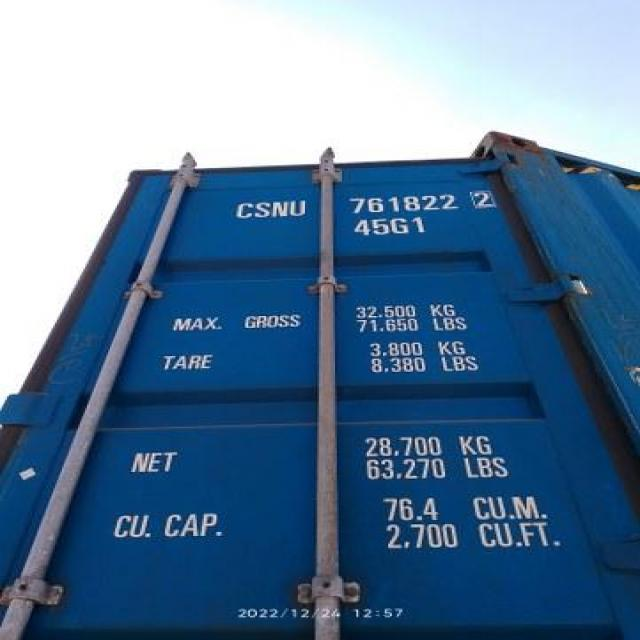container_number_h: (197, 154, 546, 256)
